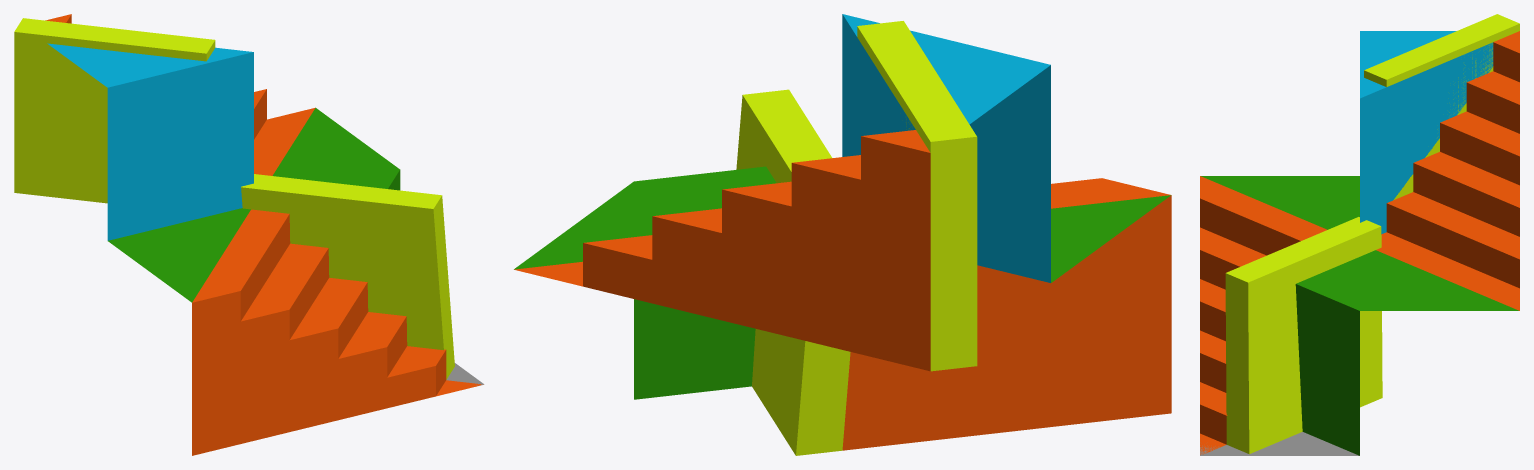
The picture shows the model from 3 angles, left to right: view 1: azimuth 30°, elevation 25°; view 2: azimuth 150°, elevation 25°; view 3: azimuth 270°, elevation 25°; orthographic projection. The views are drawn at different scales.
Parts seen in each view (by area): view 1: T_27_a_0; view 2: T_27_a_0; view 3: T_27_a_0.
Part boxes in pixels (box(x1,y1,x2,y2)): T_27_a_0: box(14, 14, 484, 455); T_27_a_0: box(514, 14, 1171, 455); T_27_a_0: box(1200, 14, 1519, 455).
Size of the model in its own units: 107 by 102 by 99.81.
